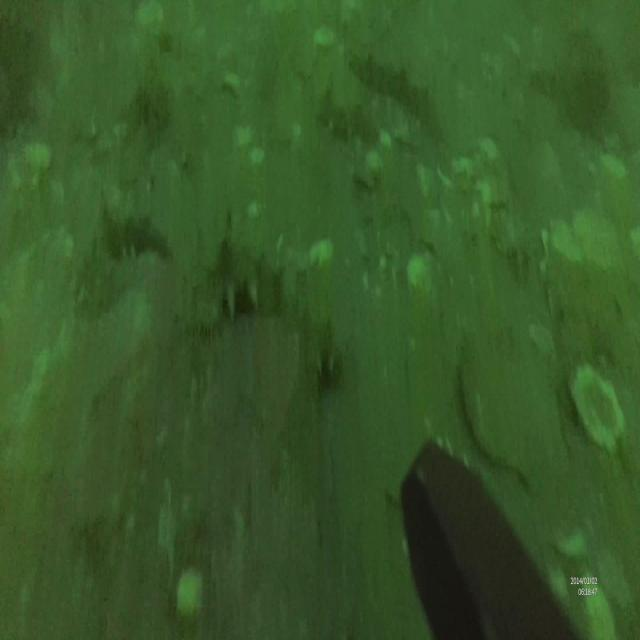holothurian: (199, 216, 290, 326), (309, 87, 379, 148), (91, 206, 168, 259)
